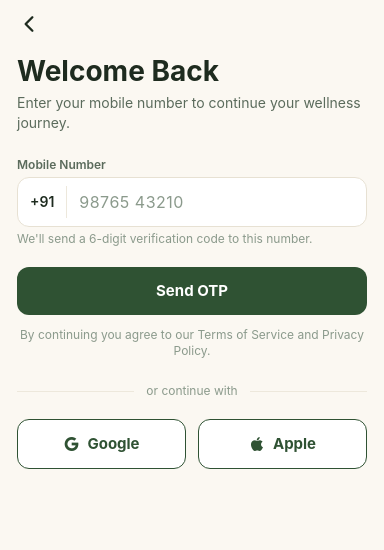
Test: LoginScreen › shows a generic fallback message for an unknown error
Type "9876543210" into the field named "Mobile number" at [217, 202], box [79,178,354,226]
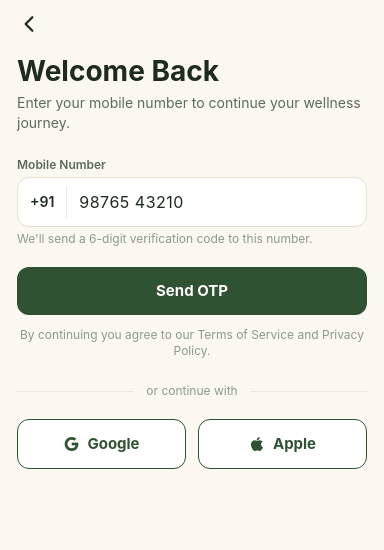
Click the button "Send OTP" at [192, 291], box [17,267,367,315]
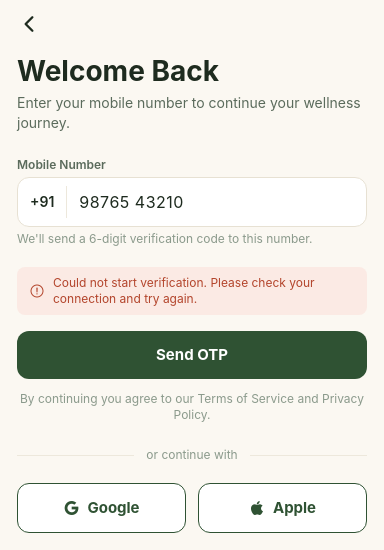
Check: the text "Could not start verification" is shown, box [53,275,318,306]
